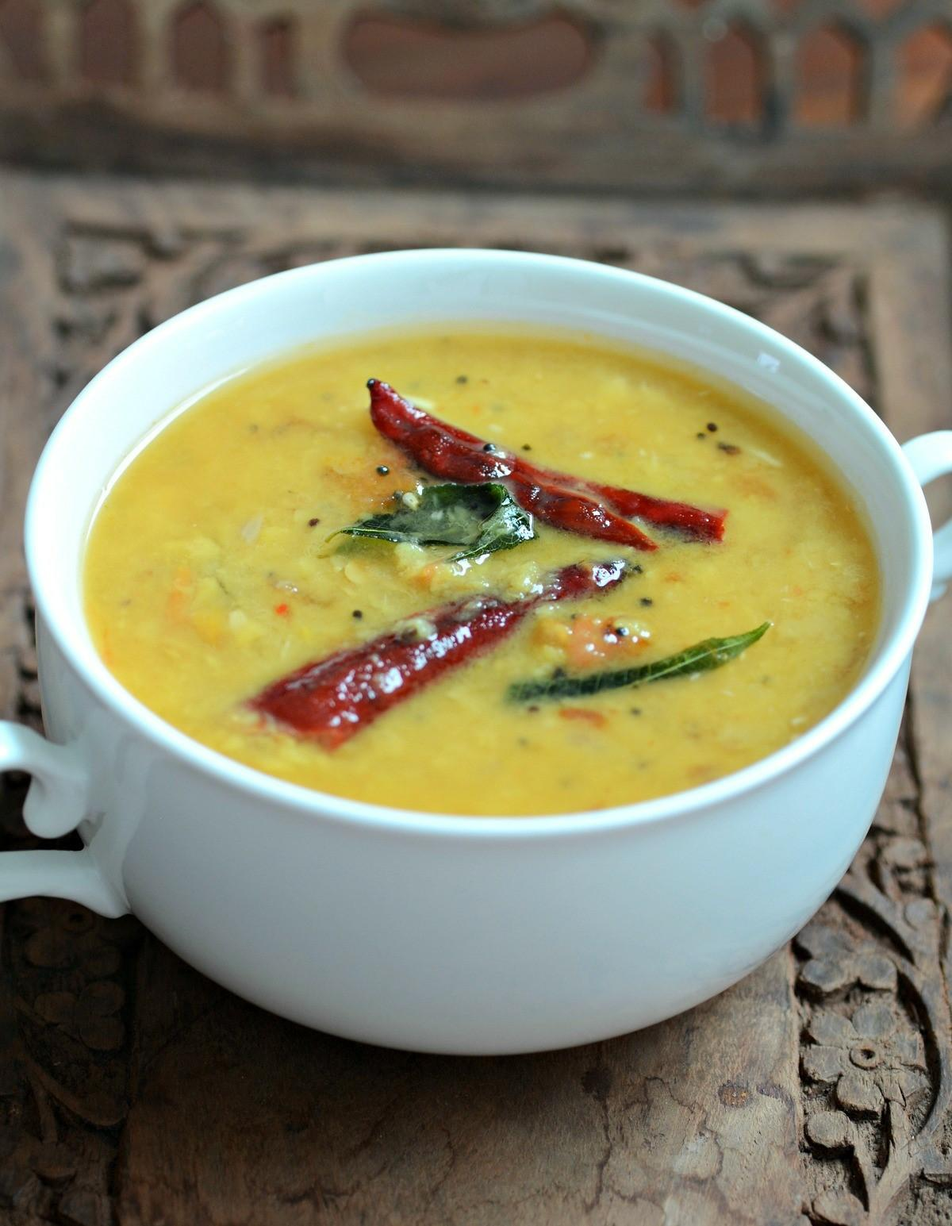Dal: (88, 334, 879, 811)
